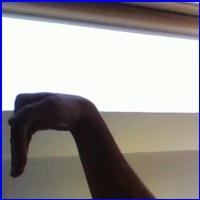A: (6, 90, 99, 183)
